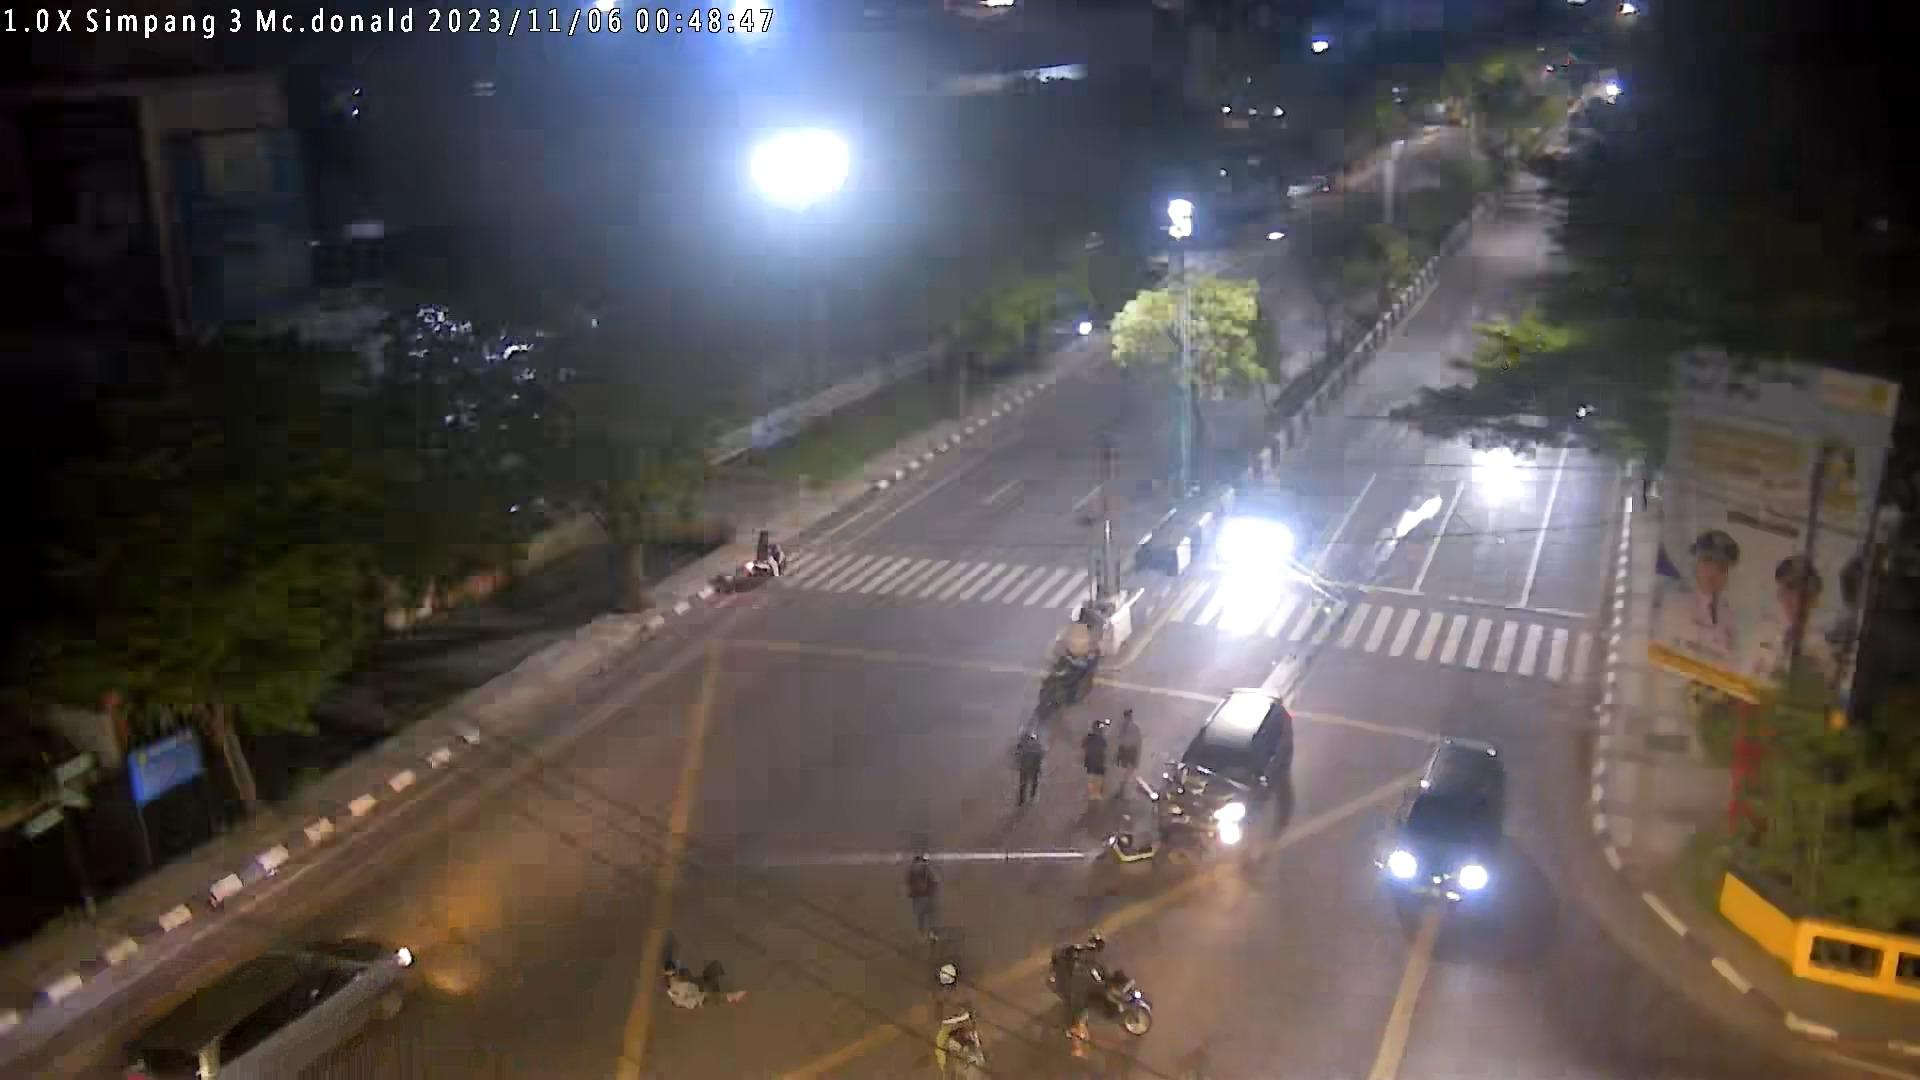accident: (658, 956, 749, 1013)
